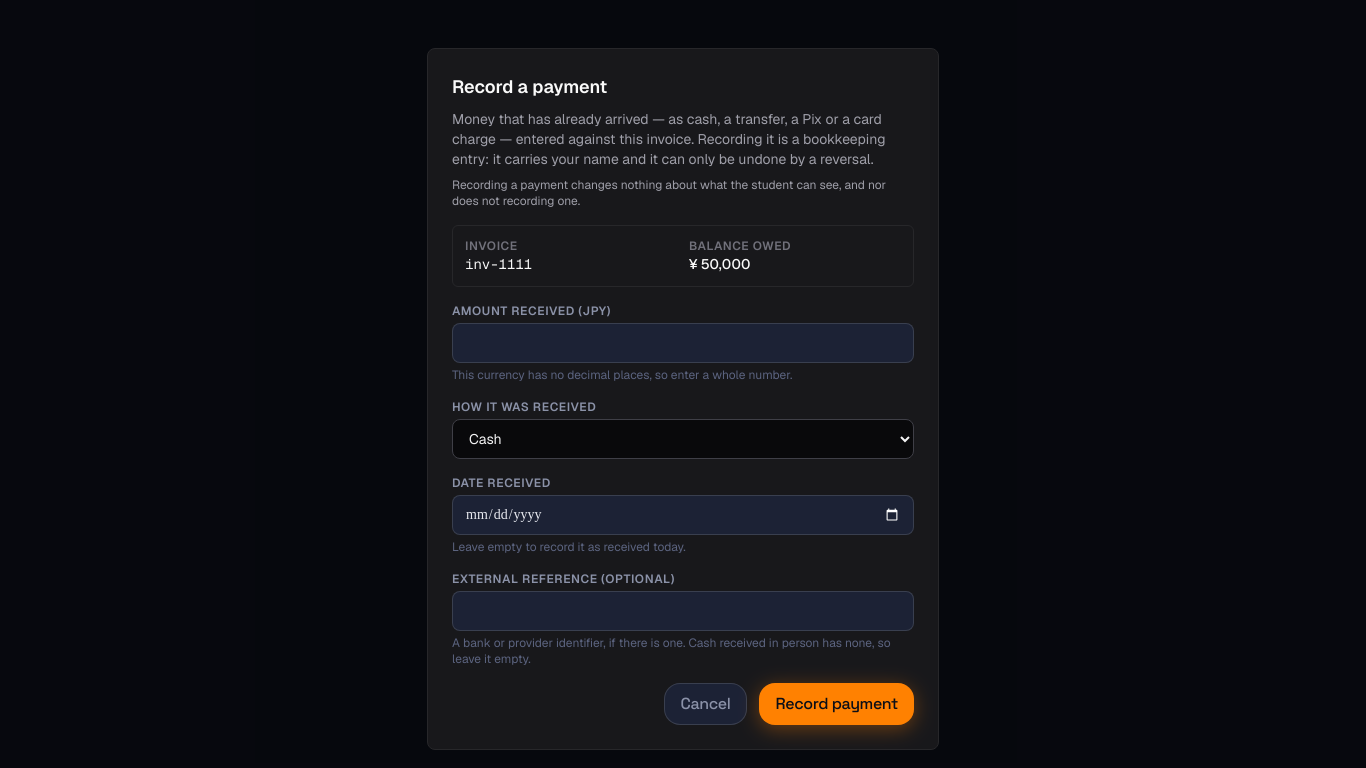
Scenario: PaymentForm › refuses an amount more precise than the currency, issuing no request
The width and height of the screenshot is (1366, 768).
Type "10.5" into the field labelled "Amount received (JPY)".
click(683, 343); type("10.5")  # box x1=452 y1=323 x2=914 y2=363
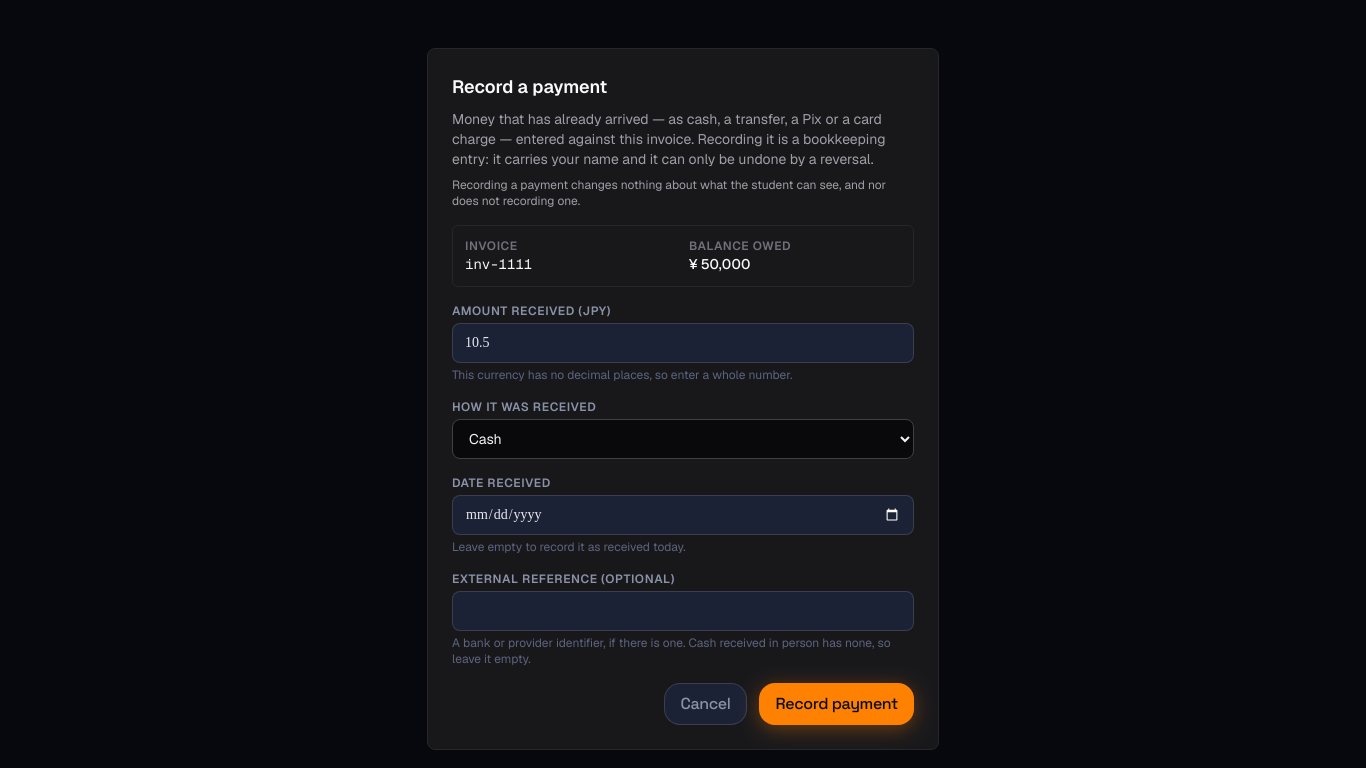
Click the button "Record payment".
click(837, 704)  # box x1=760 y1=683 x2=914 y2=725
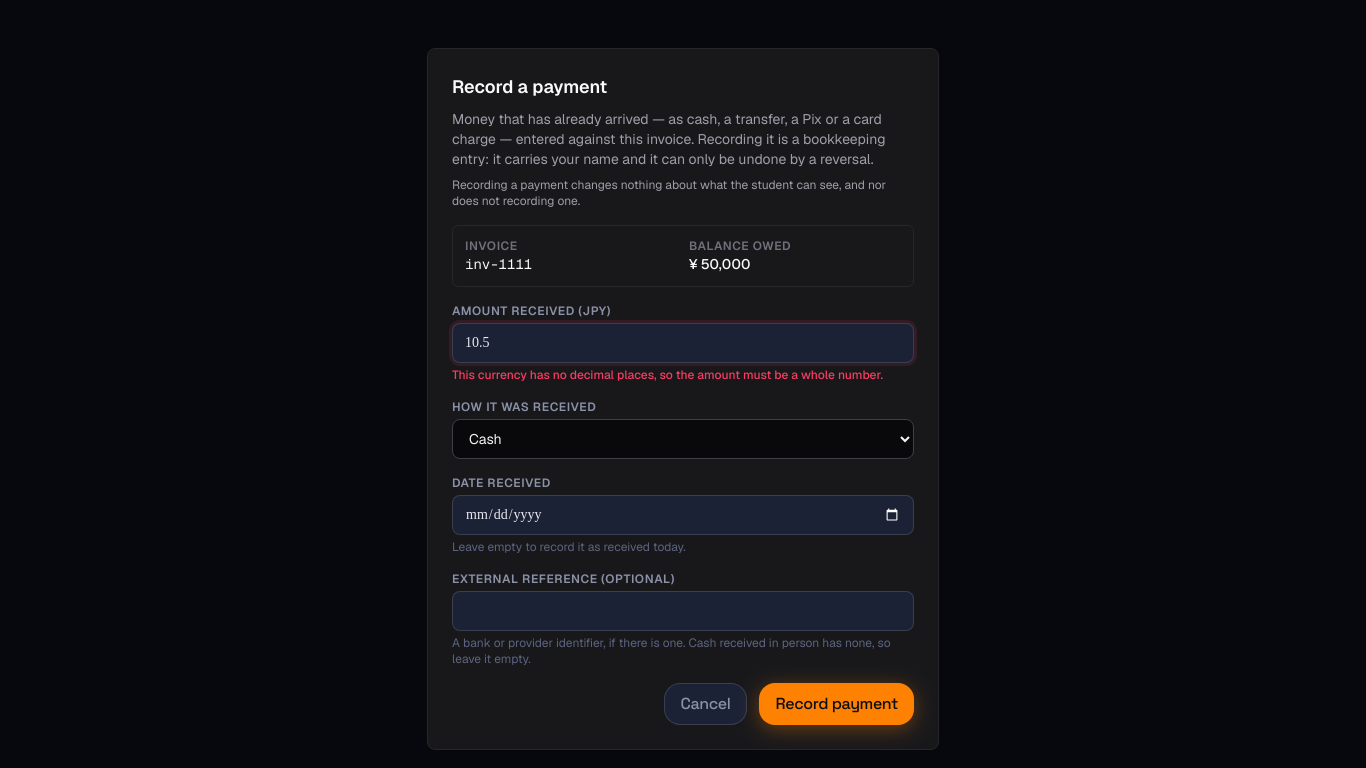
expect the text "This currency has no decimal places, so the amount must be a whole number." is shown: met, box x1=452 y1=367 x2=914 y2=383
